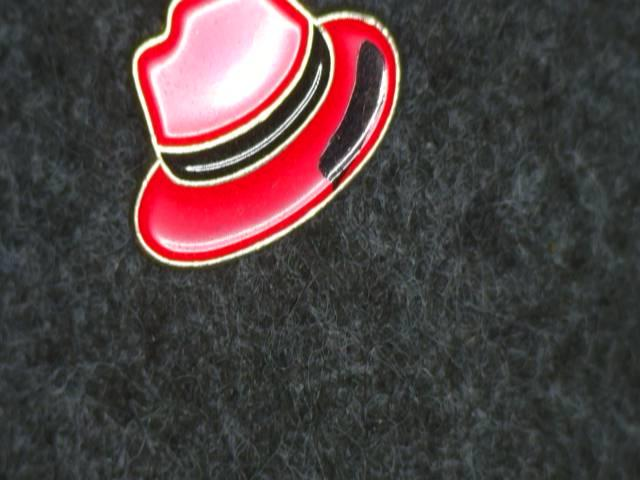Red-Hat: (107, 0, 413, 322)
Scratch: (313, 21, 403, 226)
